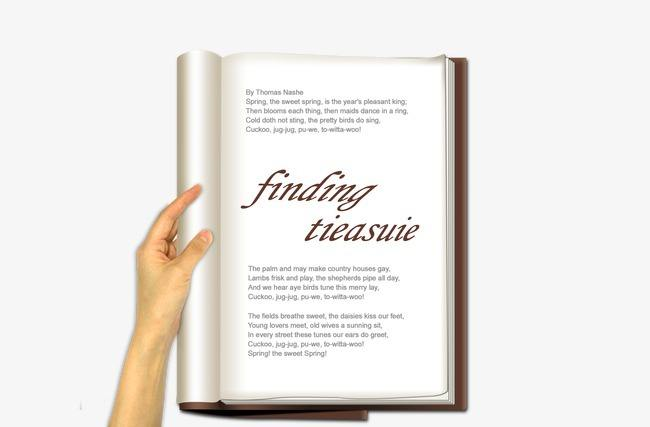book: (96, 45, 478, 427)
